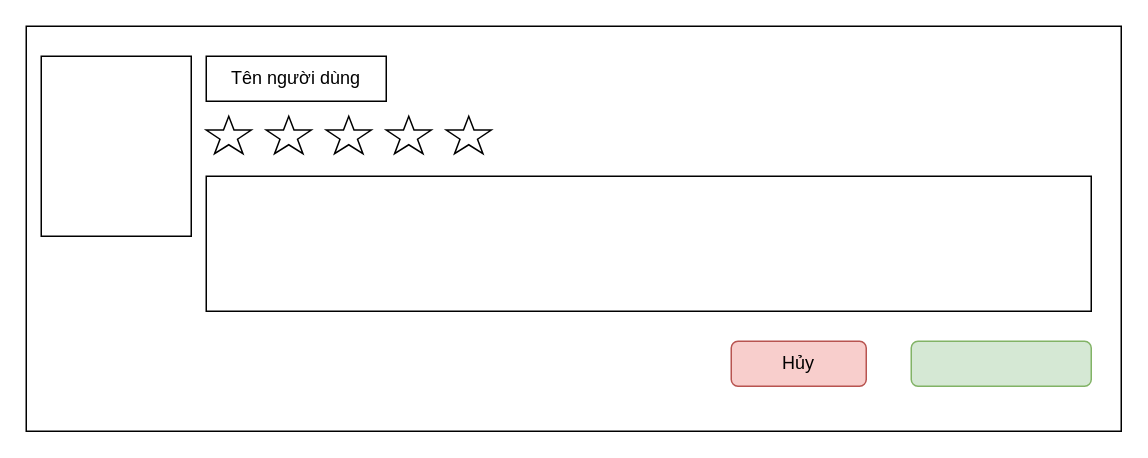
The diagram is 1148 pixels wide and 458 high, and some of its shapes have lost their labels. Here are the shapes that lost their labels. From the top down, the centre of each, then its label:
the point at 648,243: Viết đánh giá
the point at 1000,363: Đăng đánh giá
